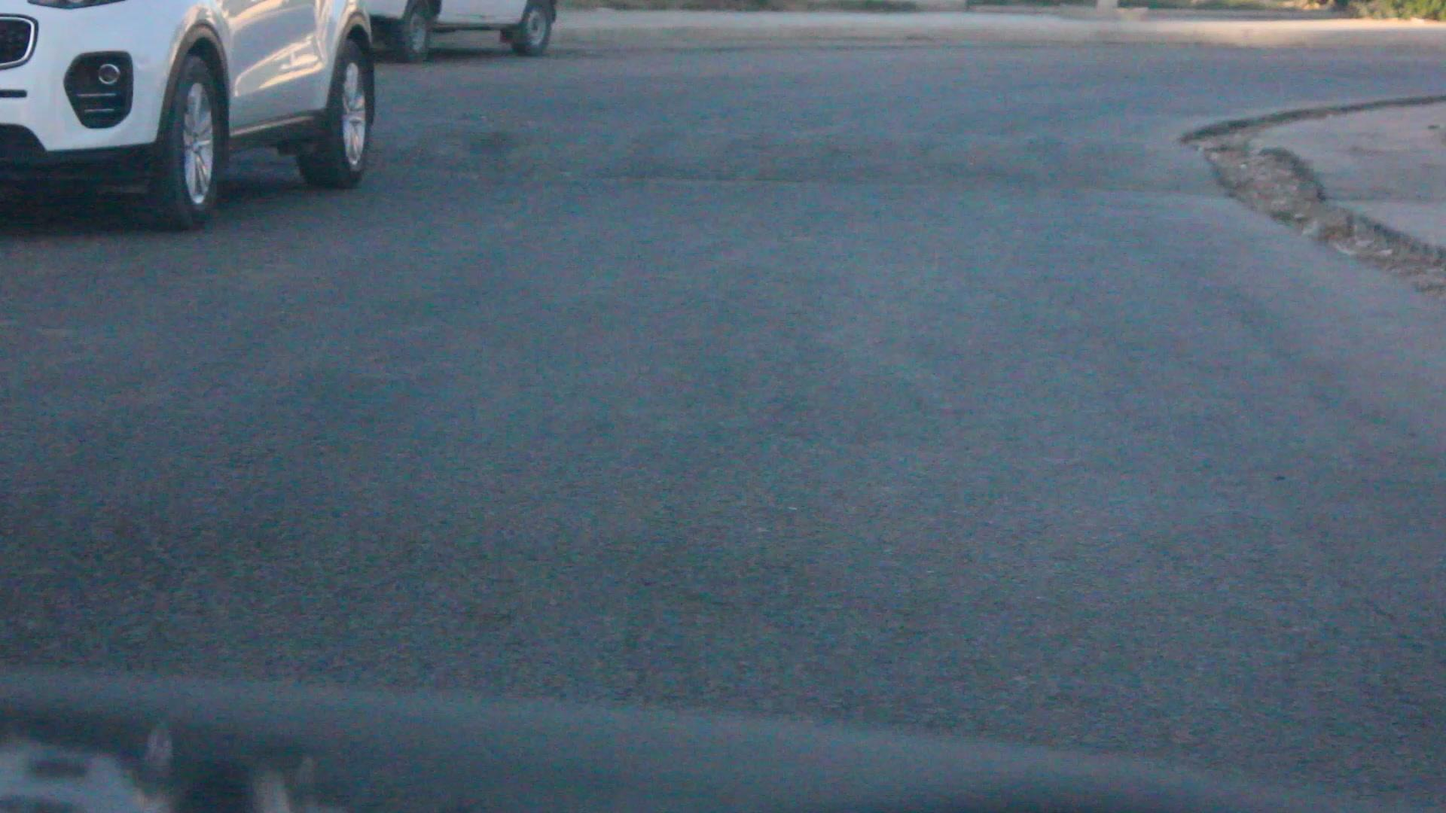Bump: (390, 111, 1282, 215)
